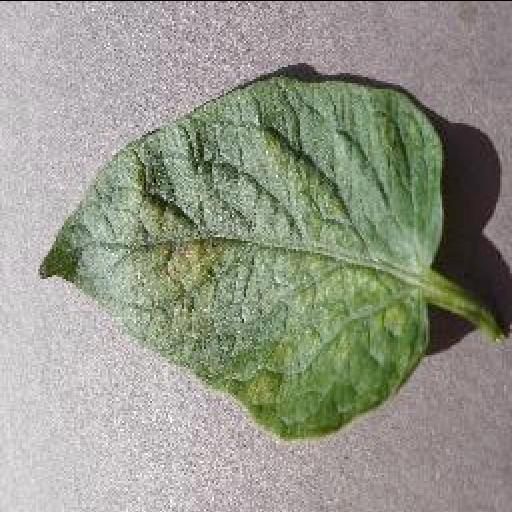disease_tomato: (38, 73, 444, 439)
